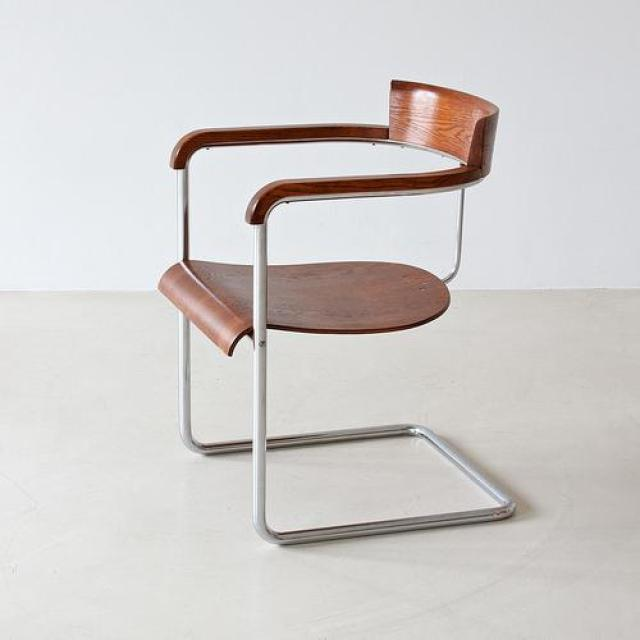chair: (156, 81, 517, 549)
